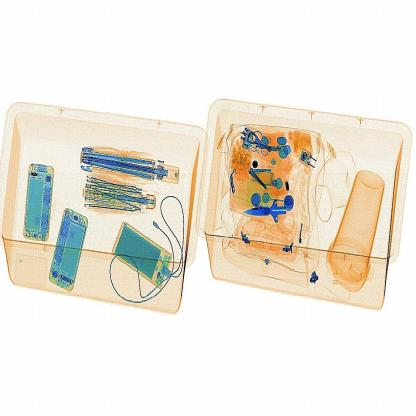gun: (245, 181, 307, 242)
